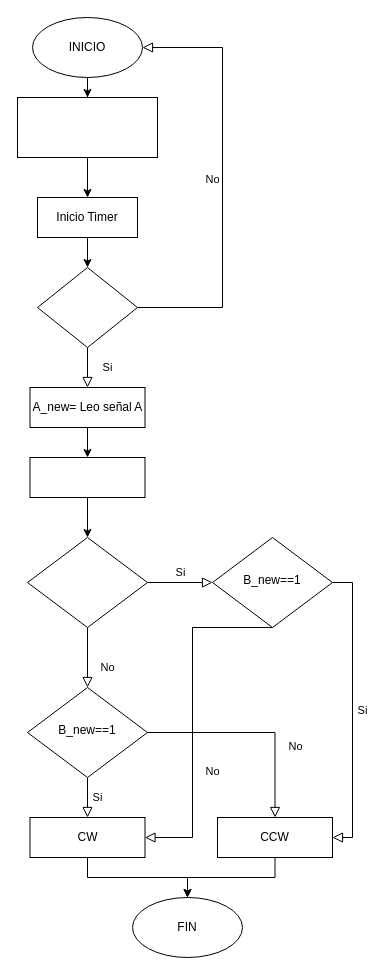
This 385x975 diagram has some shape labels left out. Each missing label, with the centre of its shape:
"A_new==0" goes at [87,582].
"B_new=Leo señal B" goes at [87,477].
"pulsos_rev=408 A_old=0 B_old=0 time_out=0.4902 ms" goes at [87,127].
"Time Out?" goes at [87,307].
